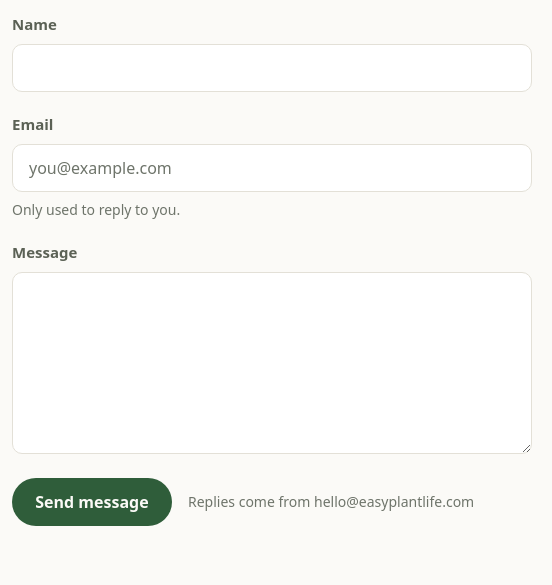
Test: ContactForm › Validation › requires a message
Type "Maya" into the field labelled "Name" at (272, 68), box [12,44,532,92]
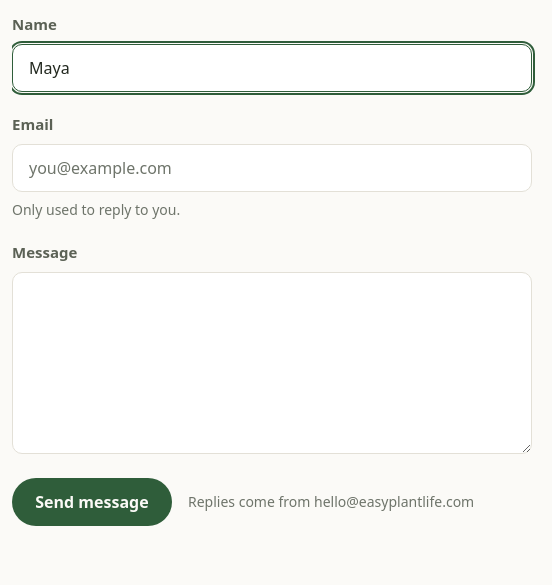
Type "maya@example.com" into the field labelled "Email" at (272, 168), box [12,144,532,192]
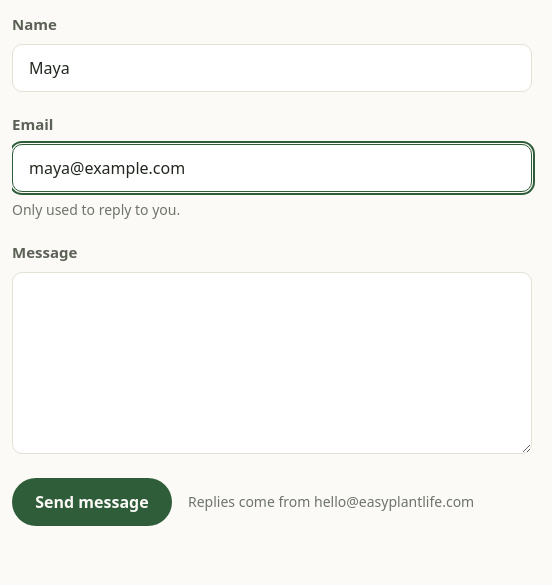
Click the button "Send message" at (92, 502), box [12,478,172,526]
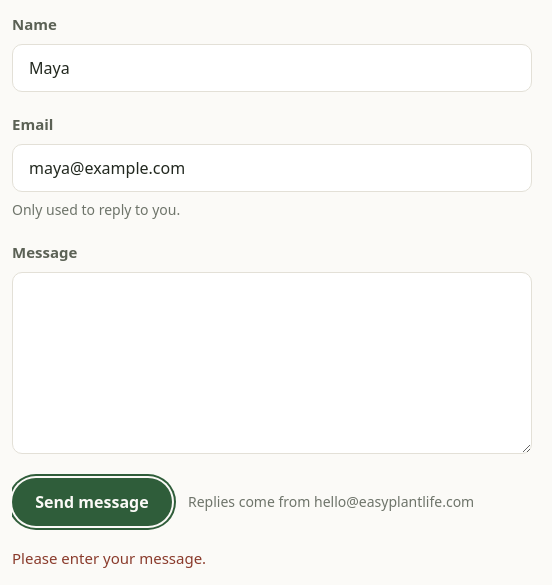
Now the message reads "Please enter your message.", box [12,548,206,568]
